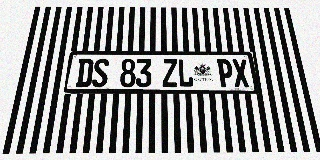3: (136, 59, 151, 87)
8: (120, 59, 136, 87)
D: (75, 59, 94, 87)
L: (177, 59, 194, 87)
P: (216, 59, 234, 87)
S: (91, 59, 109, 87)
X: (231, 59, 250, 87)
Z: (162, 59, 178, 87)
